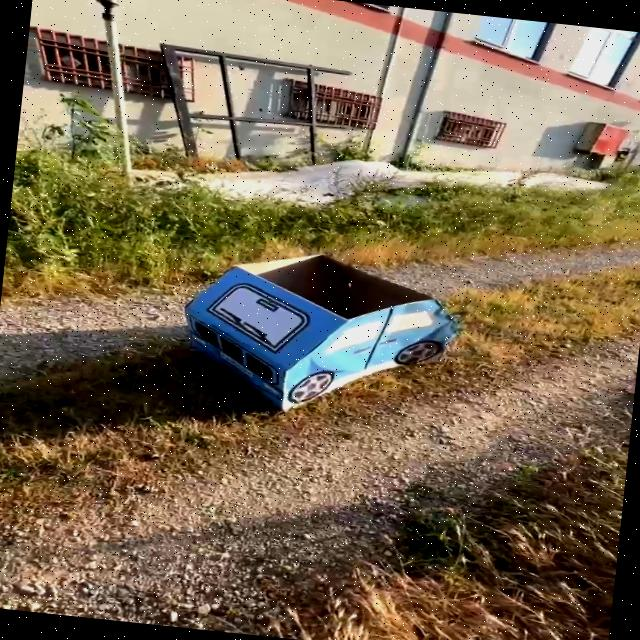blue_car: (129, 220, 534, 455)
